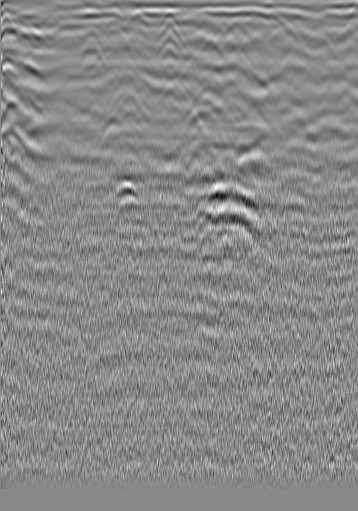가스: (100, 177, 143, 210)
상수: (23, 30, 43, 50)
오수: (315, 36, 335, 56)
우수: (158, 35, 178, 55)
